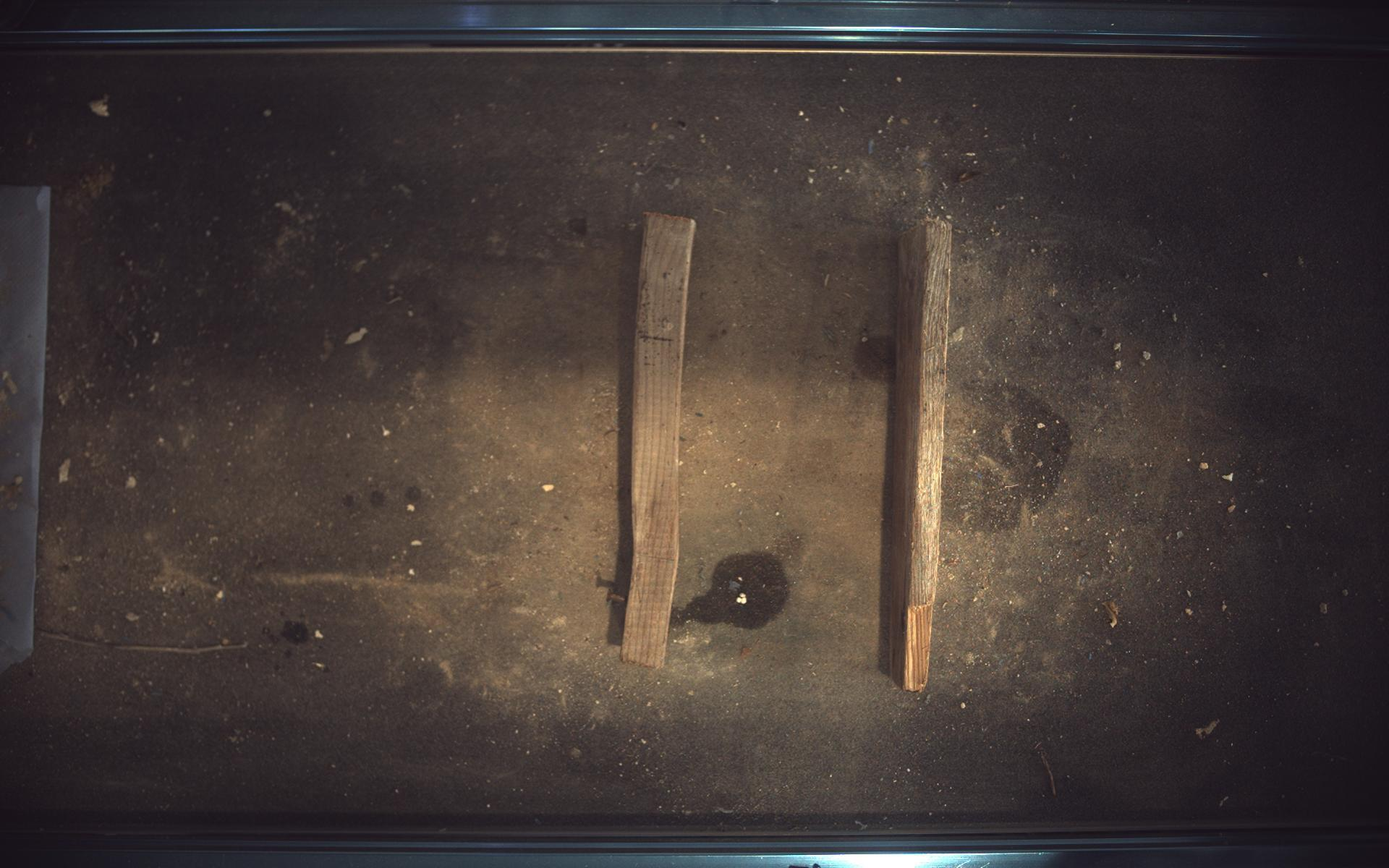wood: (621, 211, 697, 669), (888, 218, 954, 693)
